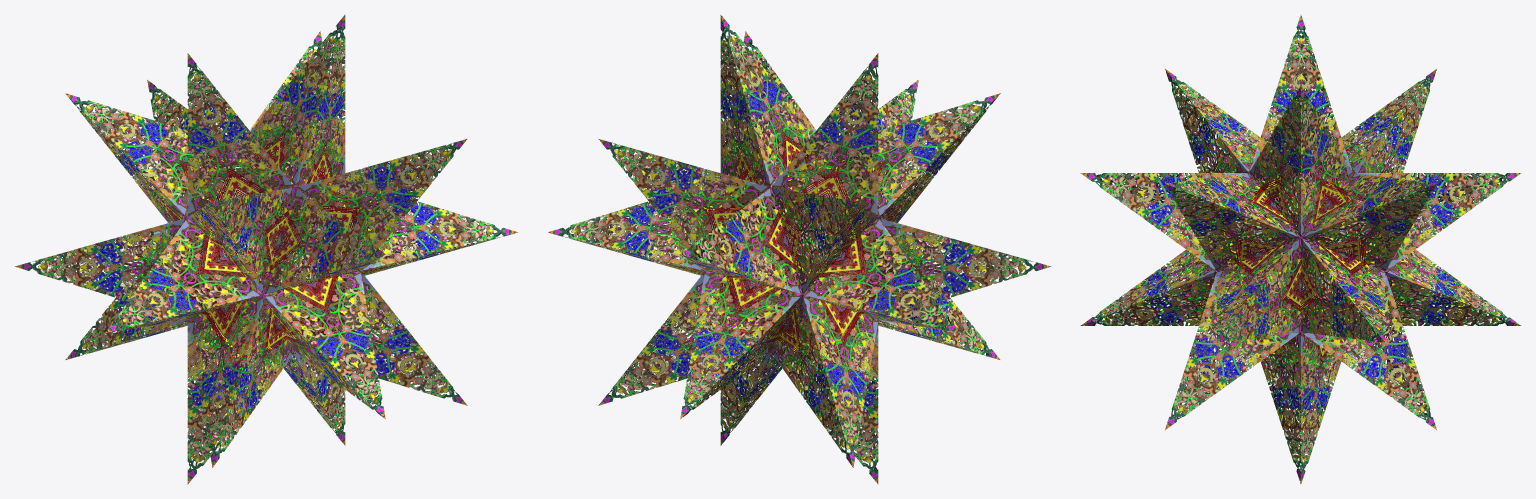
Rendered from GreatStellatedDodecahedron11.obj.
3 views of the same model, side by side, from view 1: azimuth 30°, elevation 25°; view 2: azimuth 150°, elevation 25°; view 3: azimuth 270°, elevation 25° (orthographic). The views are drawn at different scales.
Size of the model in its own units: 1 by 1 by 1.
Materials: 1 (1 with a texture image).
